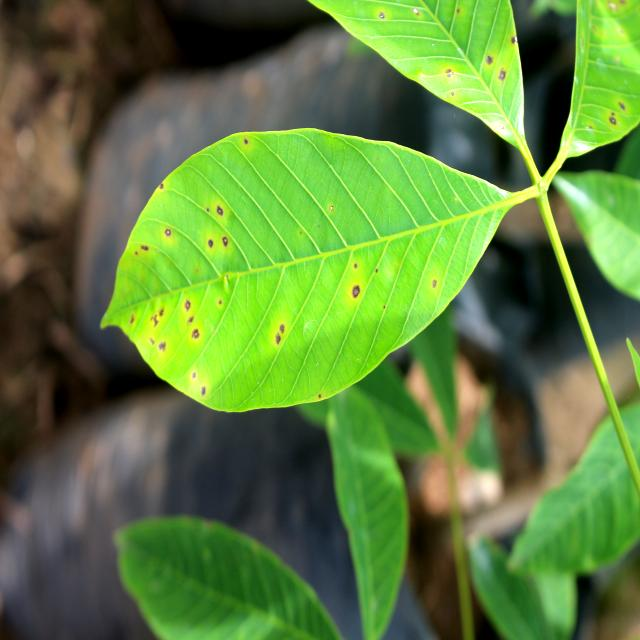Colletotrichum: (352, 286, 360, 297), (217, 206, 223, 216), (222, 236, 228, 246), (164, 229, 172, 236), (280, 324, 285, 333), (208, 240, 213, 248), (276, 336, 280, 344), (329, 205, 334, 211)
